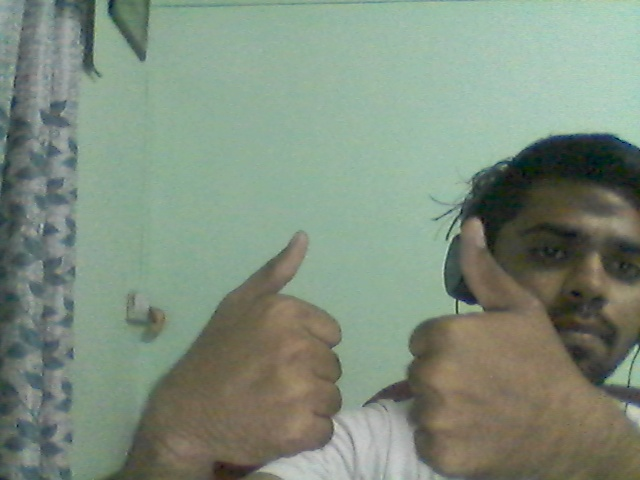Thank You: (128, 216, 635, 480)
